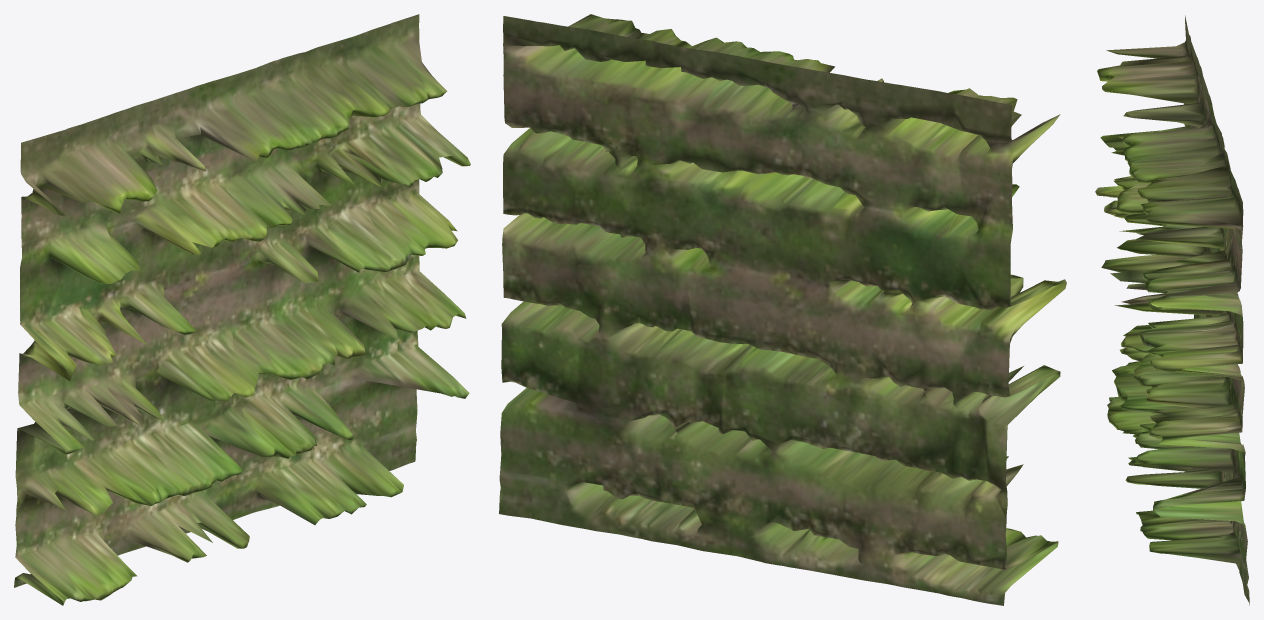
Rendered from map_110_50.obj.
The picture shows the model from 3 angles, left to right: view 1: azimuth 30°, elevation 25°; view 2: azimuth 150°, elevation 25°; view 3: azimuth 270°, elevation 25°; orthographic projection. The views are drawn at different scales.
Bounding box in the file's own units: 10 × 10 × 3.48.
1 material, 1 textured.
